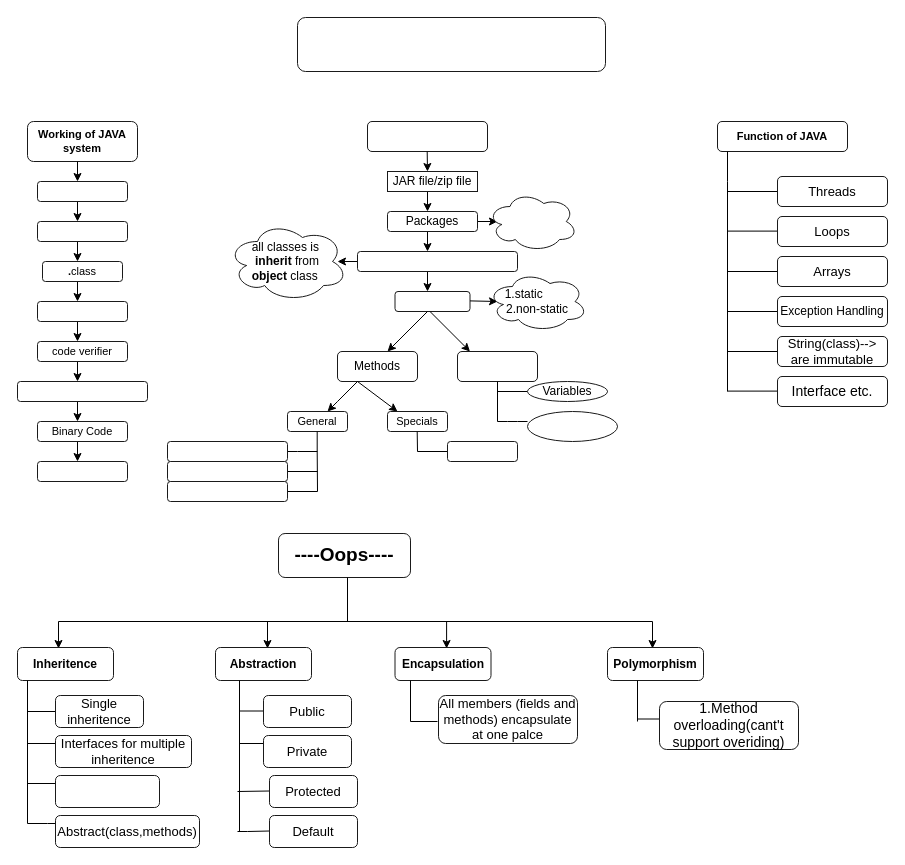
Image size: 905x865. Some labels were removed from this diagram. The centre of each missing label's shape, as x and y in pixels:
------JAVA's One Shot Diagram-------: pixel 451 44
.java (extension): pixel 82 191
Abstract(! implement): pixel 227 471
Classes,Interface,enum.: pixel 437 261
Concrete(implement): pixel 227 451
constants (use final): pixel 572 426
Constructers: pixel 482 451
execution: pixel 82 471
Fields: pixel 497 366
Final(can't overidden): pixel 227 491
Heirarchy in JAVA: pixel 427 136
java.io java.util etc..: pixel 532 221
JavaC(compiler): pixel 82 231
JIT(just in time->compiler: pixel 82 391
JVM: pixel 82 311
Members: pixel 432 301
method overiding: pixel 107 791
